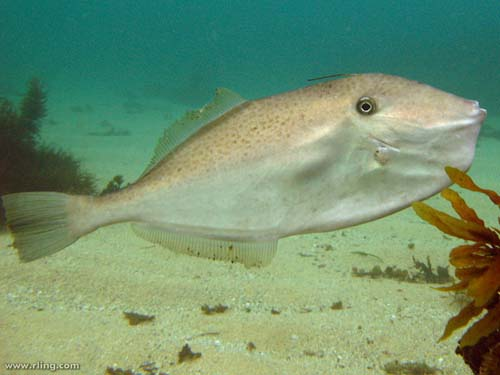fish: (1, 75, 484, 269)
